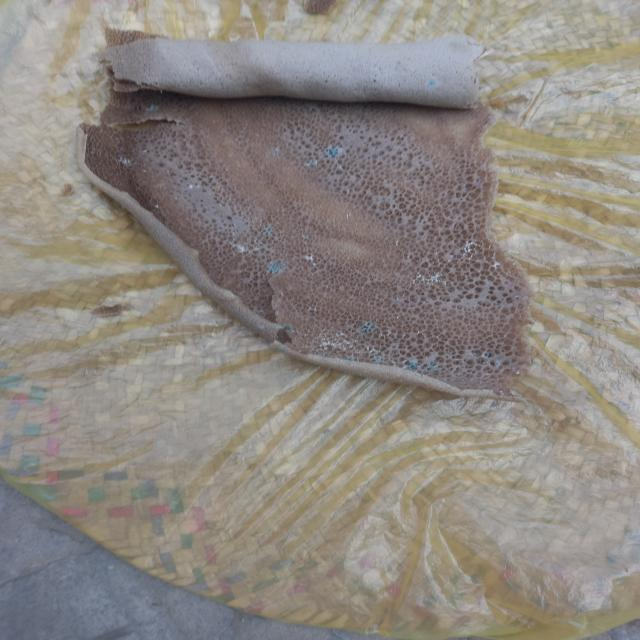injera_mold: (316, 335, 350, 355), (399, 361, 445, 372), (414, 272, 449, 286), (356, 321, 382, 338), (458, 239, 476, 261), (264, 257, 284, 276), (328, 142, 342, 164), (303, 158, 324, 170), (230, 243, 248, 256), (142, 103, 164, 113), (259, 224, 277, 236), (116, 156, 134, 168), (368, 352, 385, 364), (268, 341, 286, 352), (481, 350, 495, 361), (276, 324, 297, 331), (185, 180, 197, 192), (269, 148, 281, 160), (301, 255, 319, 262), (424, 80, 438, 89), (298, 232, 308, 244), (230, 224, 236, 242), (298, 328, 306, 341), (490, 258, 500, 268), (352, 321, 356, 344), (364, 347, 382, 352), (344, 210, 352, 220), (344, 356, 357, 362), (307, 307, 319, 313), (384, 326, 391, 336), (317, 328, 328, 334), (252, 246, 262, 252), (153, 203, 161, 210), (487, 244, 494, 252), (238, 289, 245, 296), (400, 333, 407, 340), (256, 326, 268, 330), (142, 148, 148, 156), (141, 168, 147, 176), (395, 240, 401, 248), (165, 169, 171, 176), (492, 362, 502, 366), (311, 262, 320, 266), (515, 369, 520, 376), (499, 391, 506, 396), (218, 203, 225, 208), (394, 316, 402, 320), (446, 258, 452, 263), (433, 252, 438, 258), (476, 269, 481, 274), (416, 330, 420, 336), (502, 334, 508, 338), (238, 270, 244, 274), (398, 135, 404, 139), (489, 254, 496, 257), (269, 303, 272, 310), (396, 296, 400, 301), (406, 255, 411, 259), (512, 262, 516, 267), (436, 334, 439, 340), (427, 263, 430, 269), (172, 197, 179, 199), (209, 265, 213, 268)
